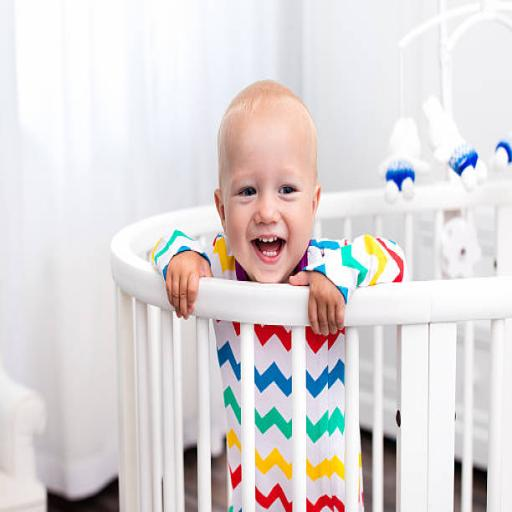baby: (154, 82, 406, 510)
crib: (316, 181, 511, 511)
